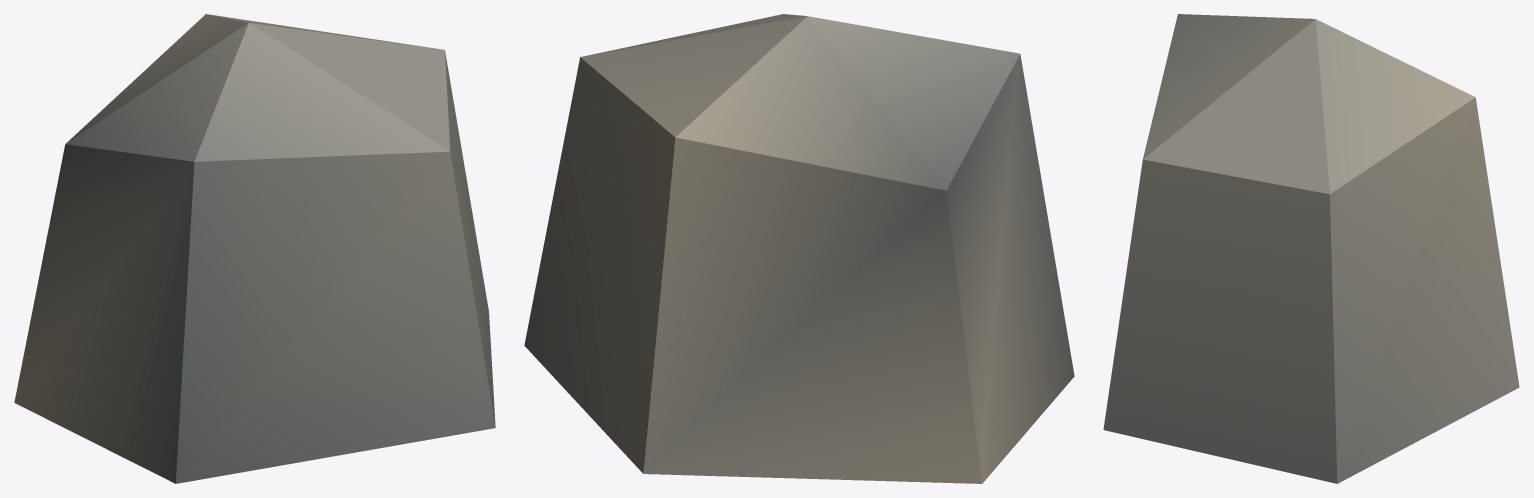
Rendered from ENV_Rock_C_LOD1.glb.
3 renders of one model, left to right at view 1: azimuth 30°, elevation 25°; view 2: azimuth 150°, elevation 25°; view 3: azimuth 270°, elevation 25°, orthographic. The views are drawn at different scales.
Visible parts, largest first — view 1: ENV_Rock_C_LOD1_rock; view 2: ENV_Rock_C_LOD1_rock; view 3: ENV_Rock_C_LOD1_rock.
Part boxes in pixels (box(x1,y1,x2,y2)): ENV_Rock_C_LOD1_rock: box(14, 14, 495, 483); ENV_Rock_C_LOD1_rock: box(524, 14, 1074, 483); ENV_Rock_C_LOD1_rock: box(1103, 14, 1519, 483).
Bounding box in the file's own units: 1.31 × 1 × 1.09.
